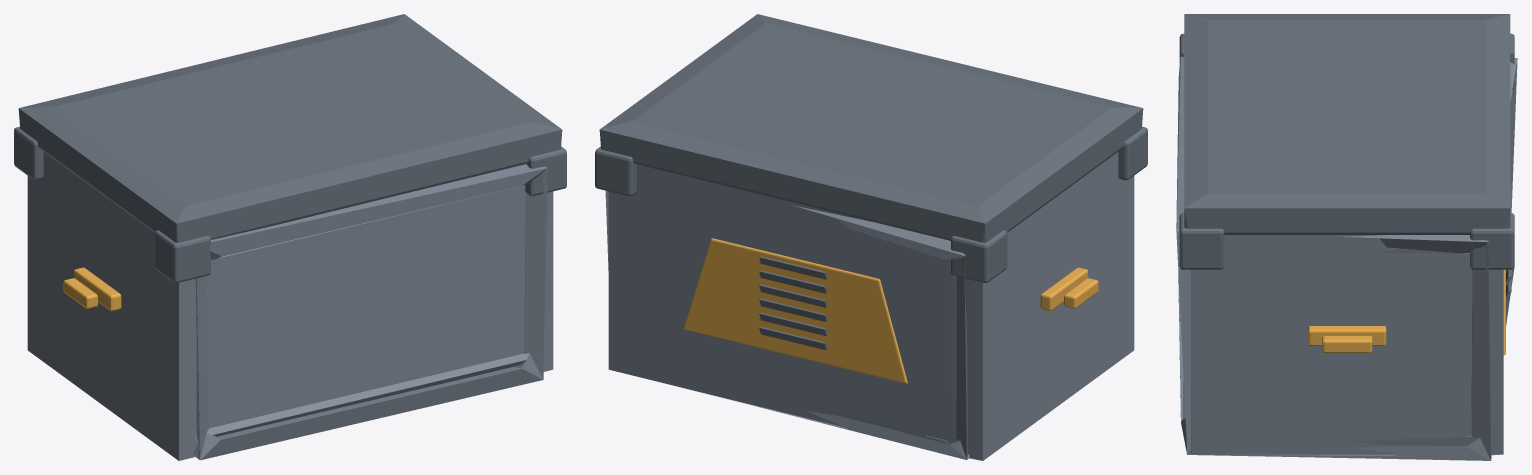
File: P09_YOLO_SciFiCrate.glb
3 views of the same model, side by side, from view 1: azimuth 30°, elevation 25°; view 2: azimuth 150°, elevation 25°; view 3: azimuth 270°, elevation 25° (orthographic). The views are drawn at different scales.
Parts seen in each view (by area): view 1: Crate_Body, Crate_Lid, Corner_Reinforcements, Modular_Handles; view 2: Crate_Body, Crate_Lid, Front_Armor_Plate, Corner_Reinforcements, Vent_Grille_Array, Modular_Handles; view 3: Crate_Lid, Crate_Body, Corner_Reinforcements, Modular_Handles.
Boxes of the visible parts, x1,y1,x2,y2 form: Crate_Body: [27, 152, 553, 460]; Crate_Lid: [18, 14, 562, 242]; Corner_Reinforcements: [14, 126, 566, 282]; Modular_Handles: [63, 267, 121, 311]; Crate_Body: [605, 152, 1134, 460]; Crate_Lid: [599, 14, 1143, 242]; Front_Armor_Plate: [683, 238, 907, 383]; Corner_Reinforcements: [595, 126, 1147, 282]; Vent_Grille_Array: [759, 256, 827, 350]; Modular_Handles: [1040, 267, 1098, 311]; Crate_Lid: [1184, 14, 1510, 234]; Crate_Body: [1176, 56, 1517, 460]; Corner_Reinforcements: [1179, 33, 1514, 269]; Modular_Handles: [1308, 326, 1386, 352].
Bounding box in the file's own units: 2.3 × 1.28 × 1.53.
